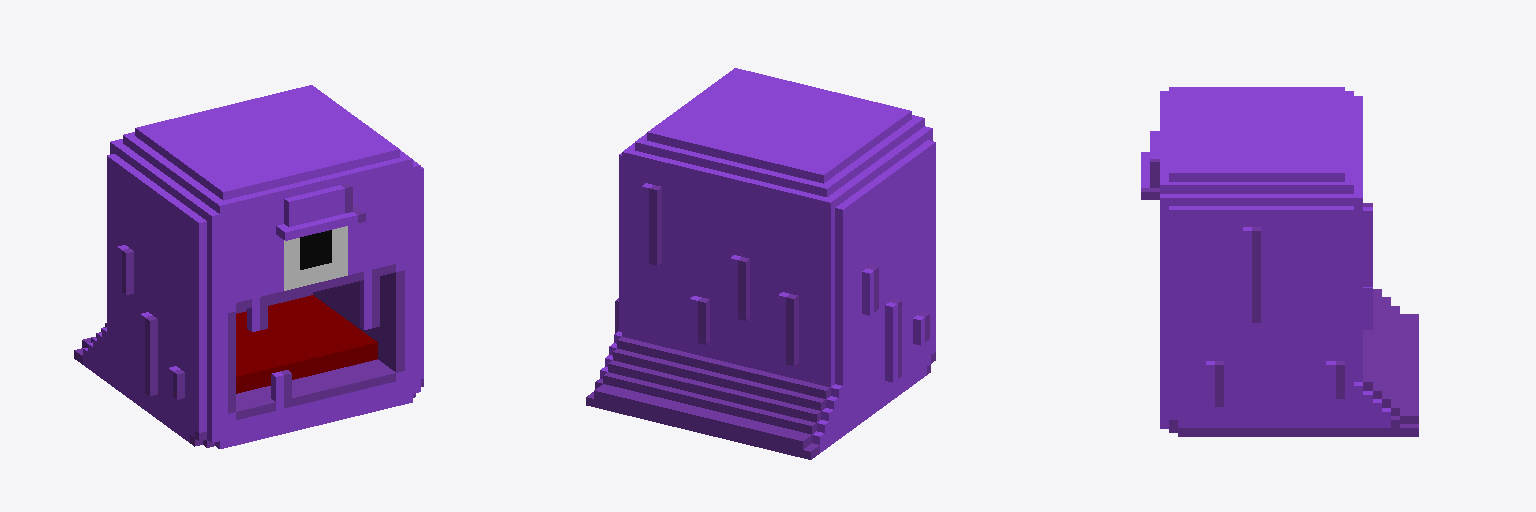
3 renders of one model, left to right at view 1: azimuth 30°, elevation 25°; view 2: azimuth 150°, elevation 25°; view 3: azimuth 270°, elevation 25°, orthographic.
Parts seen in each view (by area): view 1: WeakEnemy; view 2: WeakEnemy; view 3: WeakEnemy.
Part boxes in pixels (x1,y1,x2,y2): WeakEnemy: (74,85,423,448); WeakEnemy: (586,68,935,459); WeakEnemy: (1141,87,1418,436).
Size of the model in its own units: 3 by 3 by 3.
Materials: 1 (1 with a texture image).